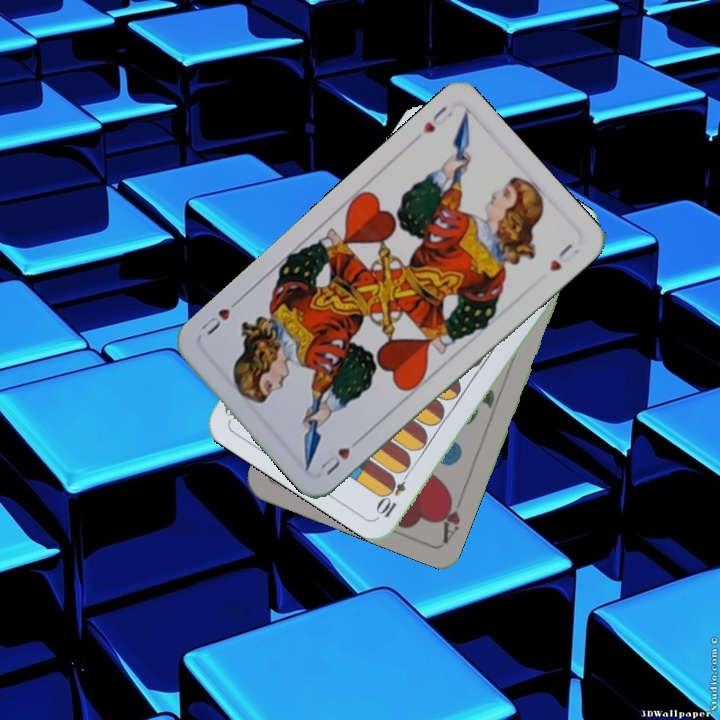E10: (374, 465, 414, 521)
HA: (435, 487, 468, 545)
HU: (314, 432, 366, 478), (419, 102, 455, 136)
